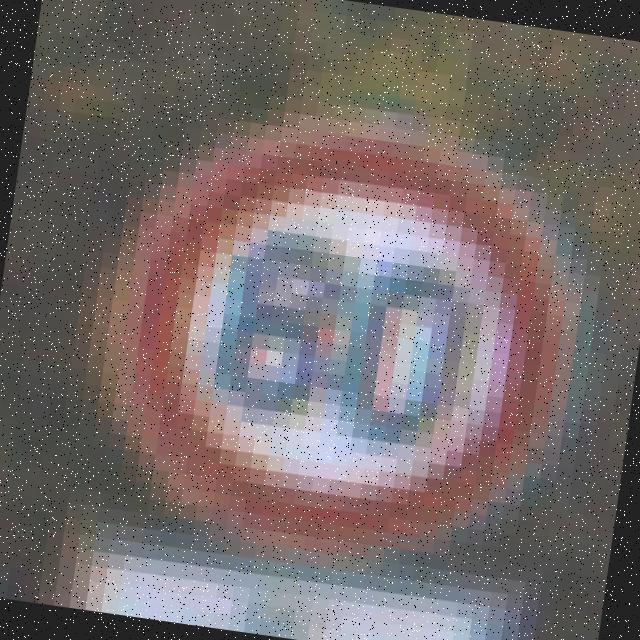Ograniczenie predkosci do 80: (114, 116, 589, 582)
